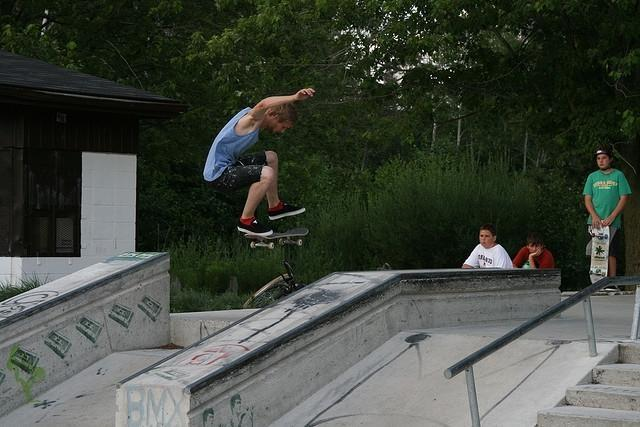bicycle: (242, 262, 306, 308)
